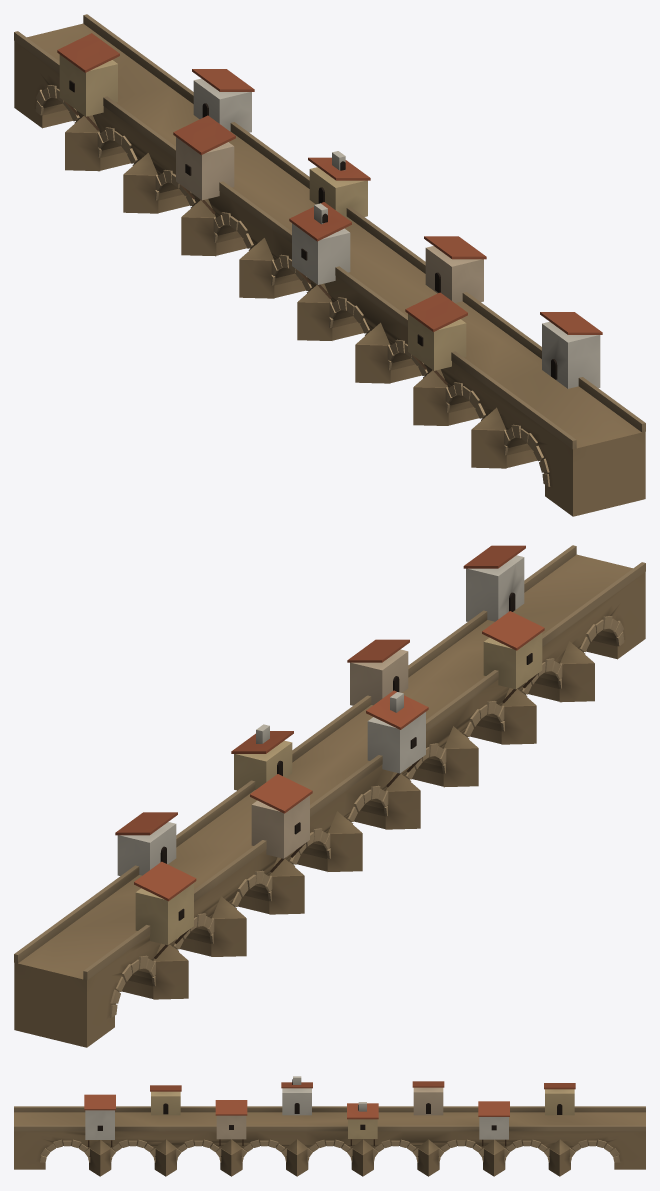
Rendered from ponte-alle-grazie.glb.
The picture shows the model from 3 angles, top to bottom: view 1: azimuth 30°, elevation 25°; view 2: azimuth 150°, elevation 25°; view 3: azimuth 270°, elevation 25°; orthographic projection. The views are drawn at different scales.
Visible parts, largest first — view 1: p0_bridge, p1_houses; view 2: p0_bridge, p1_houses; view 3: p0_bridge, p1_houses.
Part boxes in pixels (x1,y1,x2,y2): p0_bridge: (14,14,645,516); p1_houses: (57,33,602,388); p0_bridge: (14,545,645,1047); p1_houses: (115,545,544,958); p0_bridge: (14,1106,645,1176); p1_houses: (84,1076,575,1146).
Size of the model in its own units: 15.3 by 15.12 by 120.
